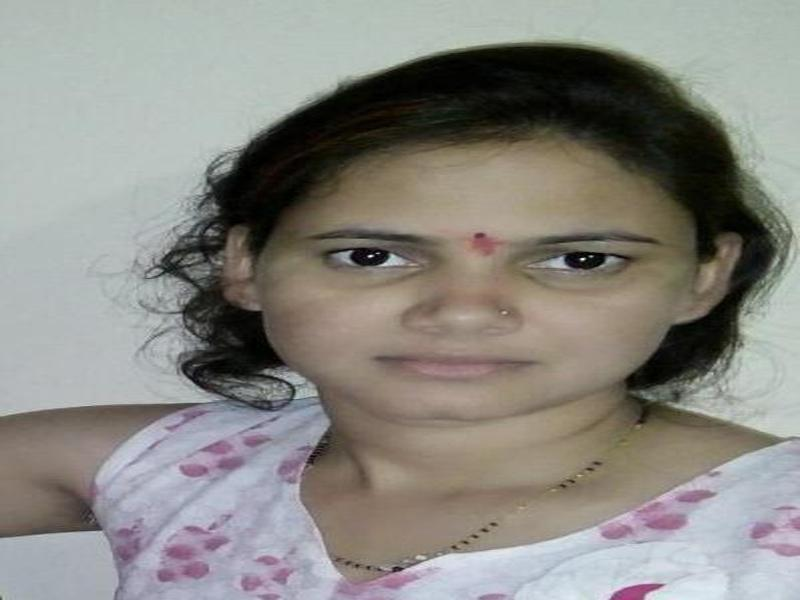without_mask: (259, 178, 683, 425)
